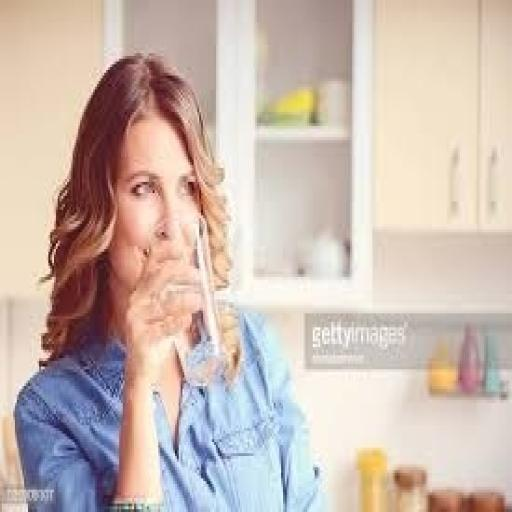drinking: (35, 55, 295, 453)
